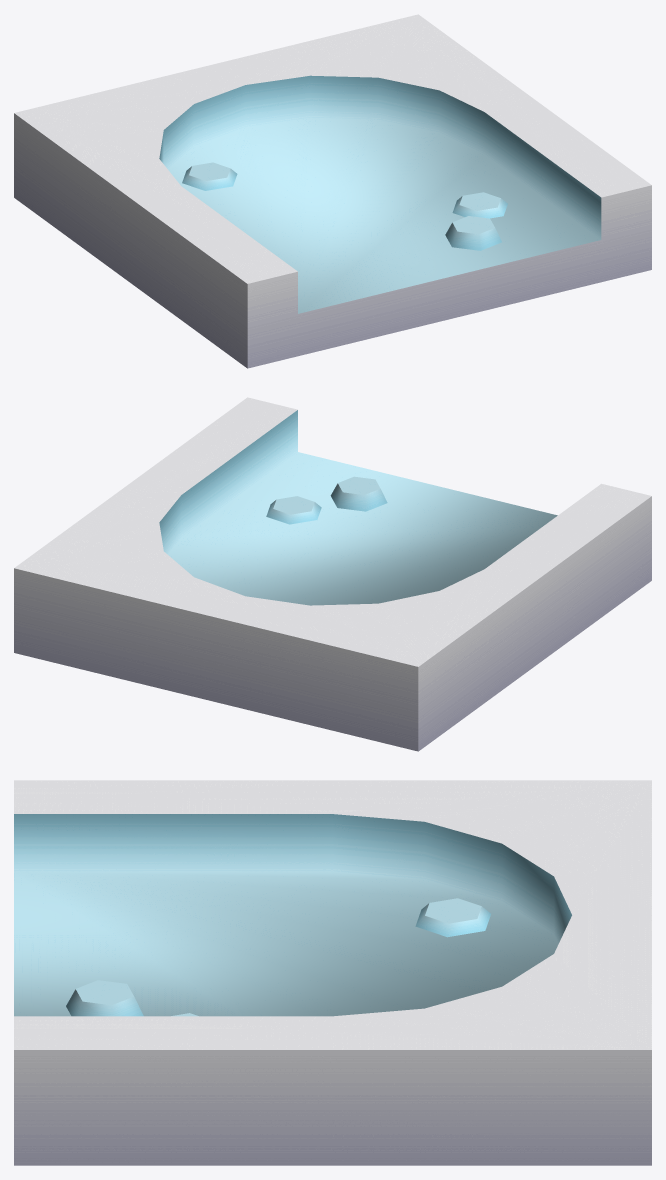
Rendered from snow-tile-end-round.glb.
3 renders of one model, top to bottom at view 1: azimuth 30°, elevation 25°; view 2: azimuth 150°, elevation 25°; view 3: azimuth 270°, elevation 25°, orthographic. The views are drawn at different scales.
Parts seen in each view (by area): view 1: snow-tile-end-round; view 2: snow-tile-end-round; view 3: snow-tile-end-round.
Boxes of the visible parts, x1,y1,x2,y2 form: snow-tile-end-round: [14, 14, 651, 368]; snow-tile-end-round: [14, 397, 651, 751]; snow-tile-end-round: [14, 780, 651, 1165].
Size of the model in its own units: 3 by 0.6 by 3.
Materials: 1 (1 with a texture image).
